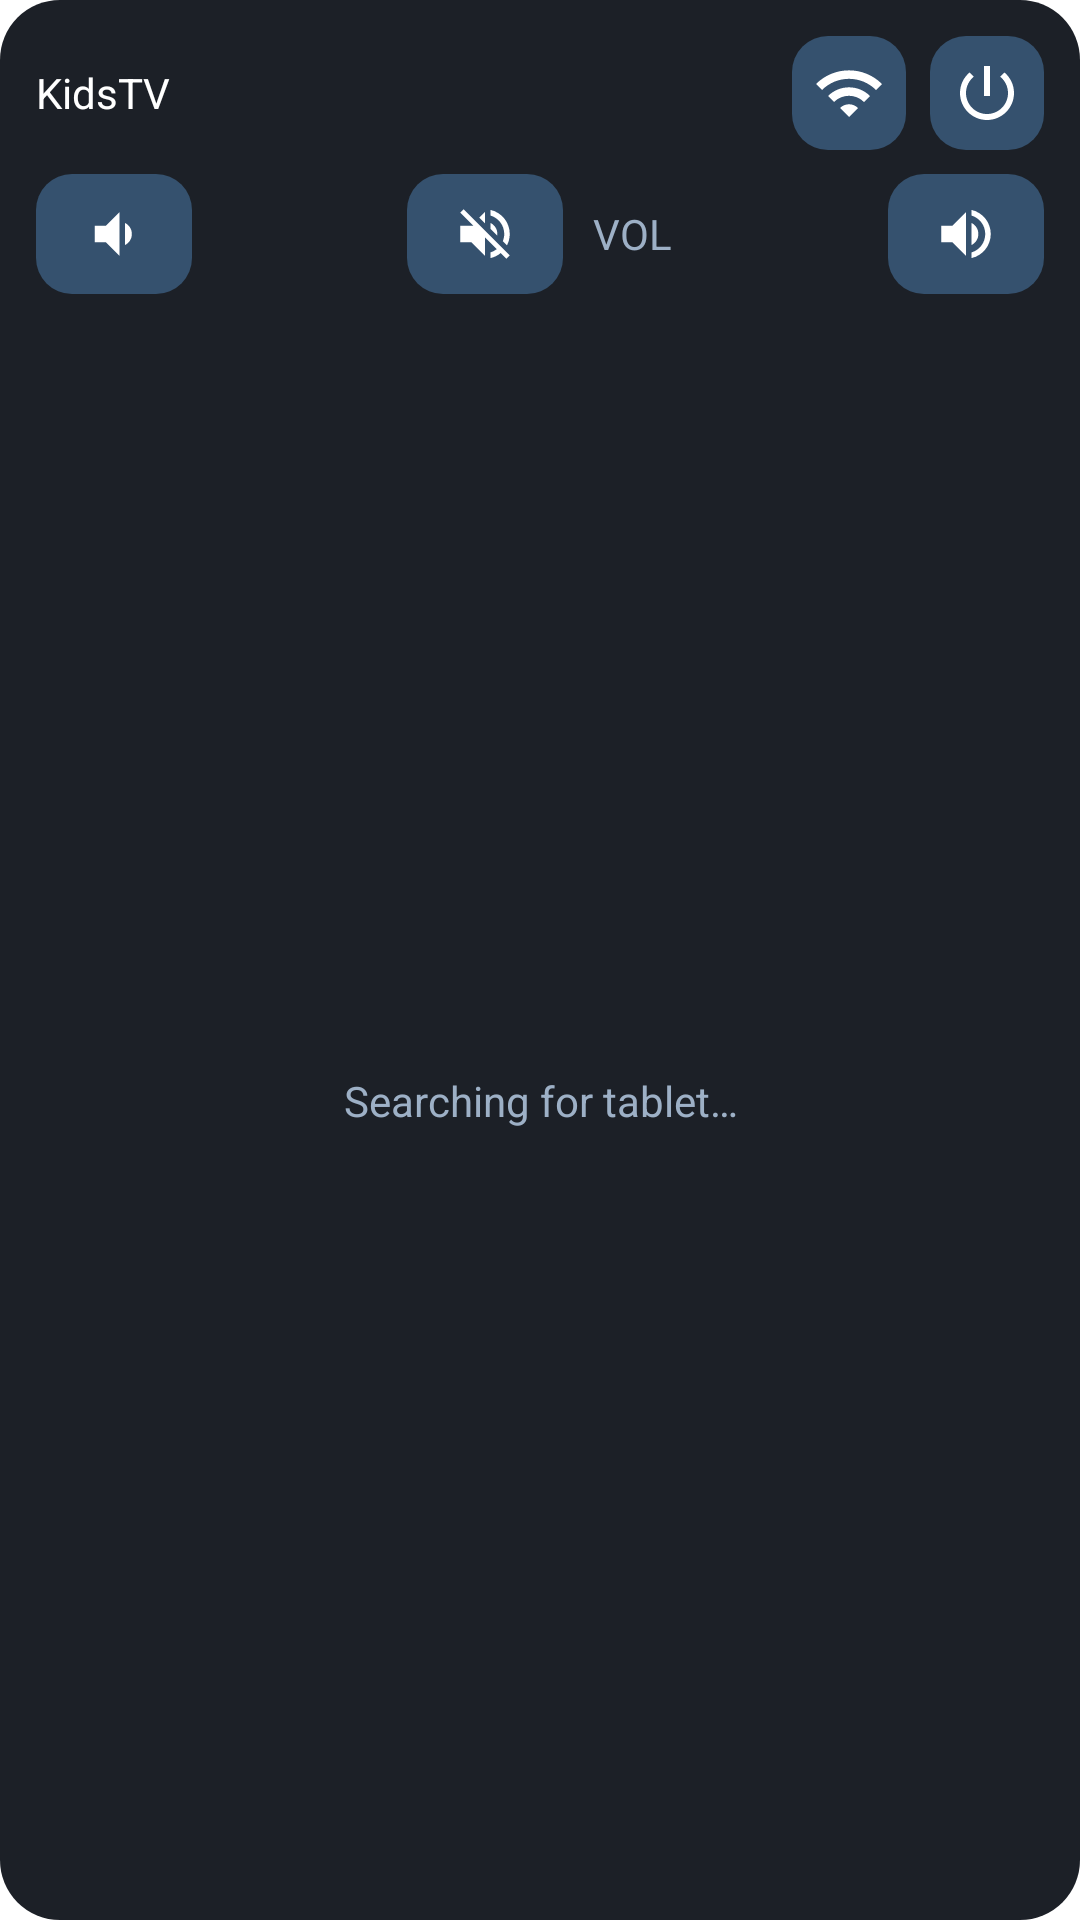

Locate icon controls on the screen. Image size 1080x1920, boxes as {"x1": x1, "y1": y1, "x2": x2, "y2": y2}.
Check WiFi: {"x1": 792, "y1": 36, "x2": 906, "y2": 150}
Mute: {"x1": 407, "y1": 174, "x2": 563, "y2": 294}
Power: {"x1": 930, "y1": 36, "x2": 1044, "y2": 150}
Volume down: {"x1": 36, "y1": 174, "x2": 192, "y2": 294}
Volume up: {"x1": 888, "y1": 174, "x2": 1044, "y2": 294}
